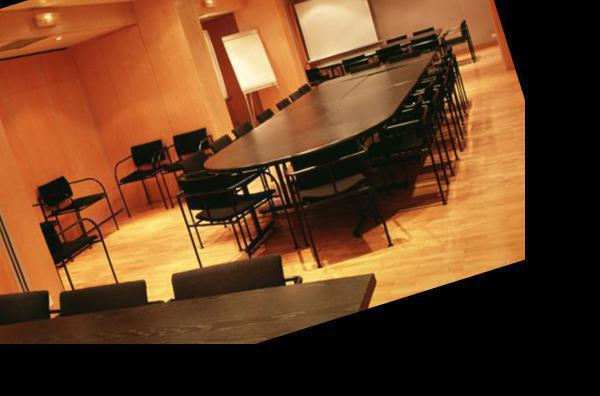Otro Obstaculo: (214, 17, 290, 116)
